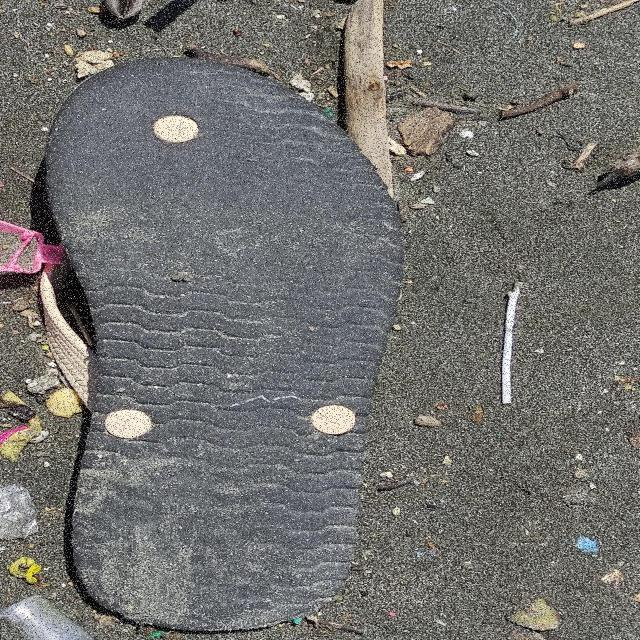plastic_waste: (500, 289, 520, 407)
rubber_waste: (44, 53, 408, 635)
